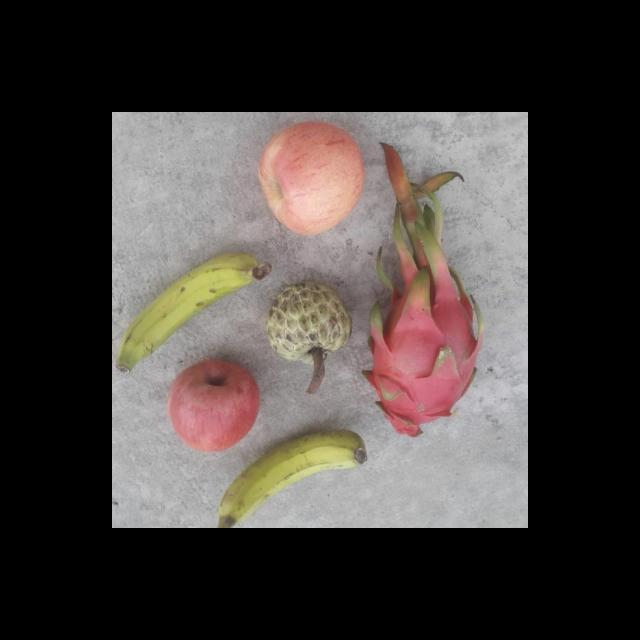Sakya fruit: (262, 279, 351, 367)
apple: (254, 120, 368, 240), (164, 356, 262, 456)
banana: (116, 256, 262, 374), (208, 426, 368, 528)
pitaya: (358, 264, 488, 438)
